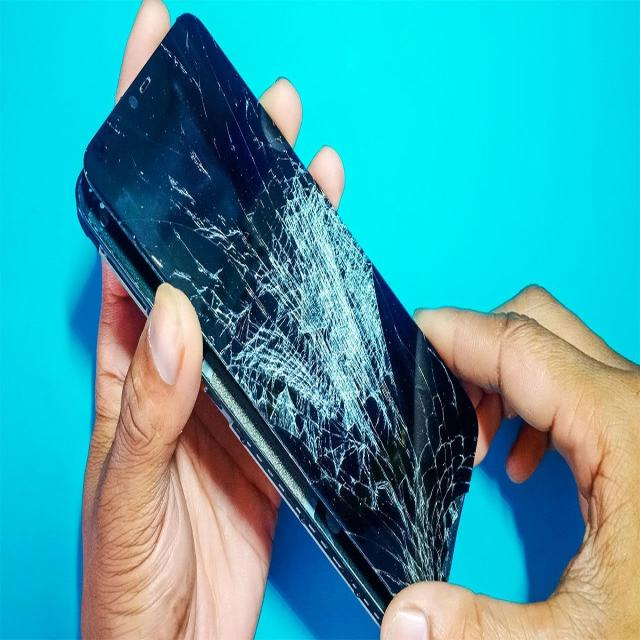mobile phone: (74, 12, 480, 632)
